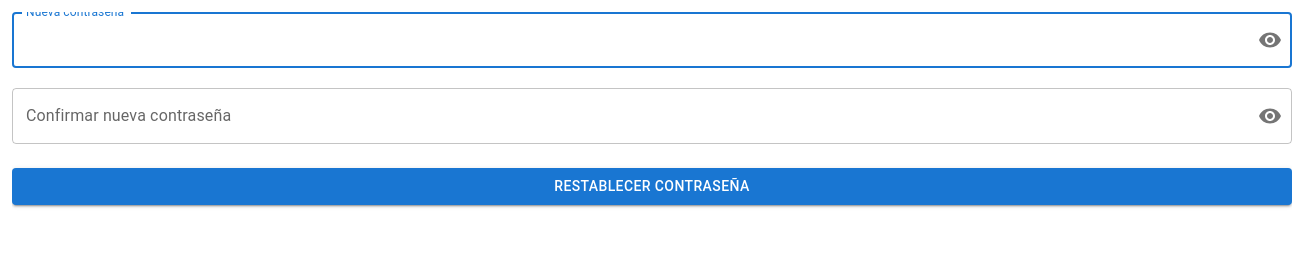
Test: ResetPasswordForm › form submission validation › should show validation error when new password is only numeric
The width and height of the screenshot is (1304, 254).
In the password field labelled "Nueva contraseña": (627, 40) [12,12,1242,68], type "12345678"
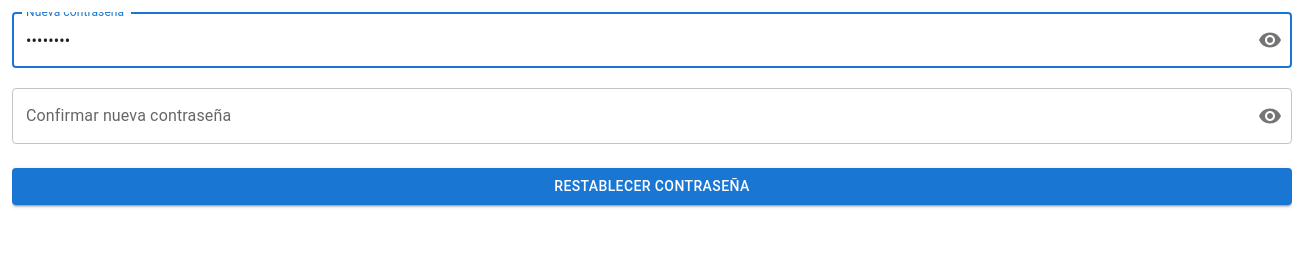
In the password field labelled "Confirmar nueva contraseña": (627, 116) [12,88,1242,144], type "12345678"
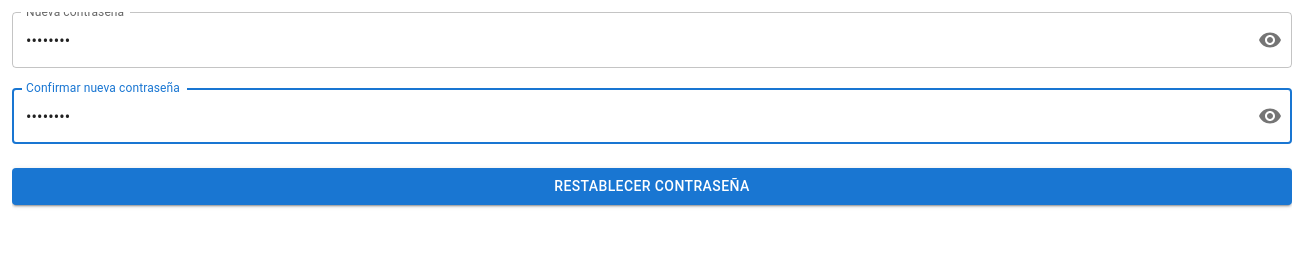
Click the button "Restablecer contraseña": (652, 186) [12,168,1292,204]
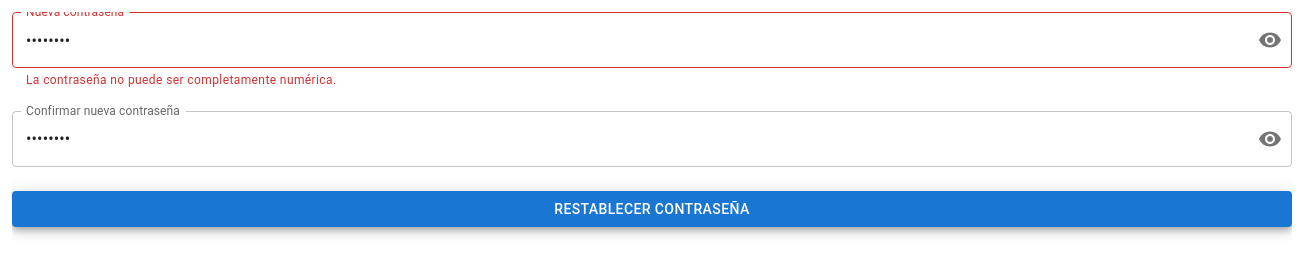
Expected: the text "La contraseña no puede ser completamente numérica." is shown, [26,73,336,87]
